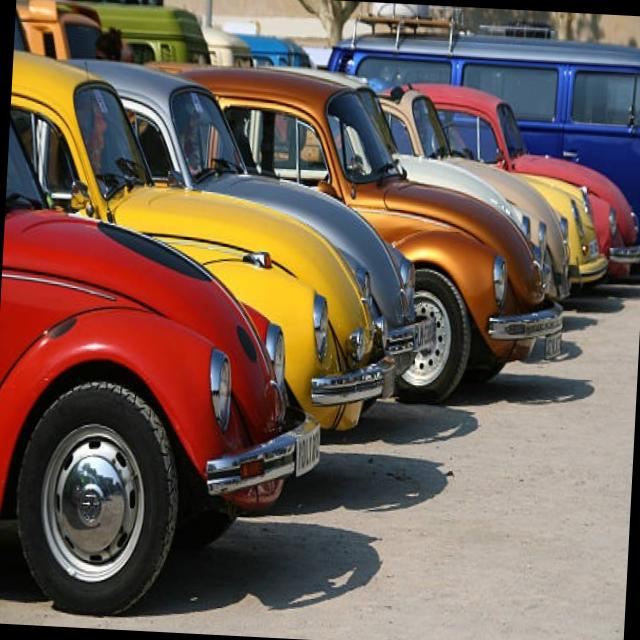car: (99, 54, 563, 418), (0, 112, 309, 613)
